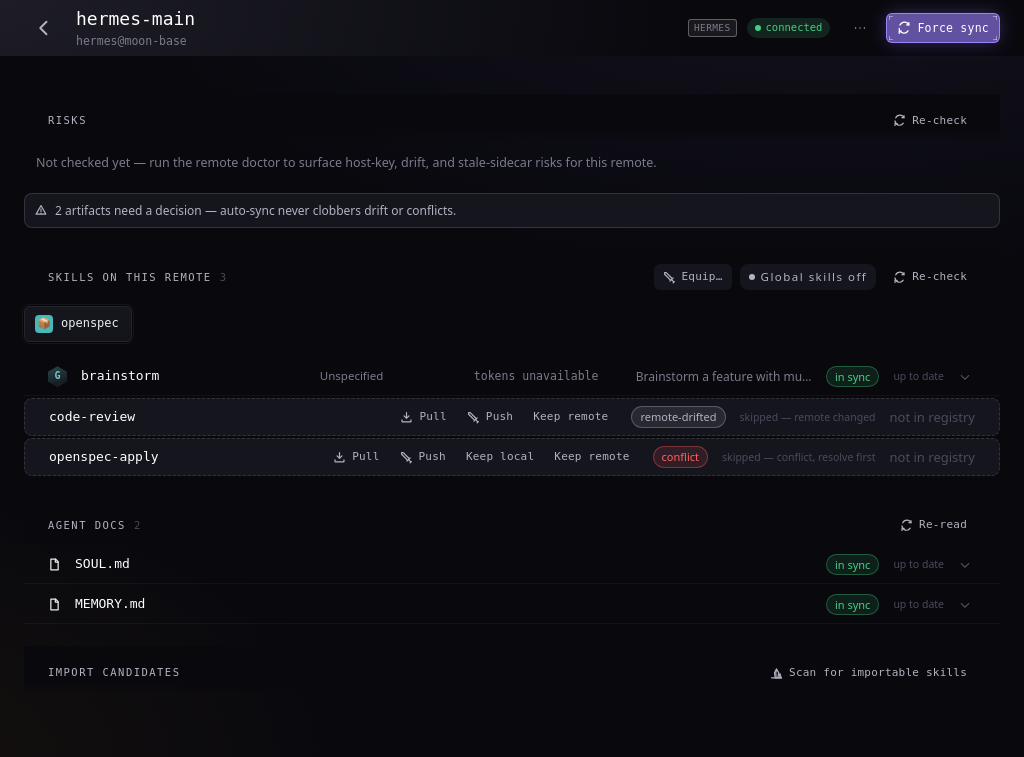
RemotesScreen — per-remote actions › opening an agent doc shows a 'full file' size line so a small doc doesn't read as truncated
Expected: the text "connected" is shown, [766,20,822,36]
Click the button named "Show MEMORY.md editor" at (965, 605), box [954,594,976,616]
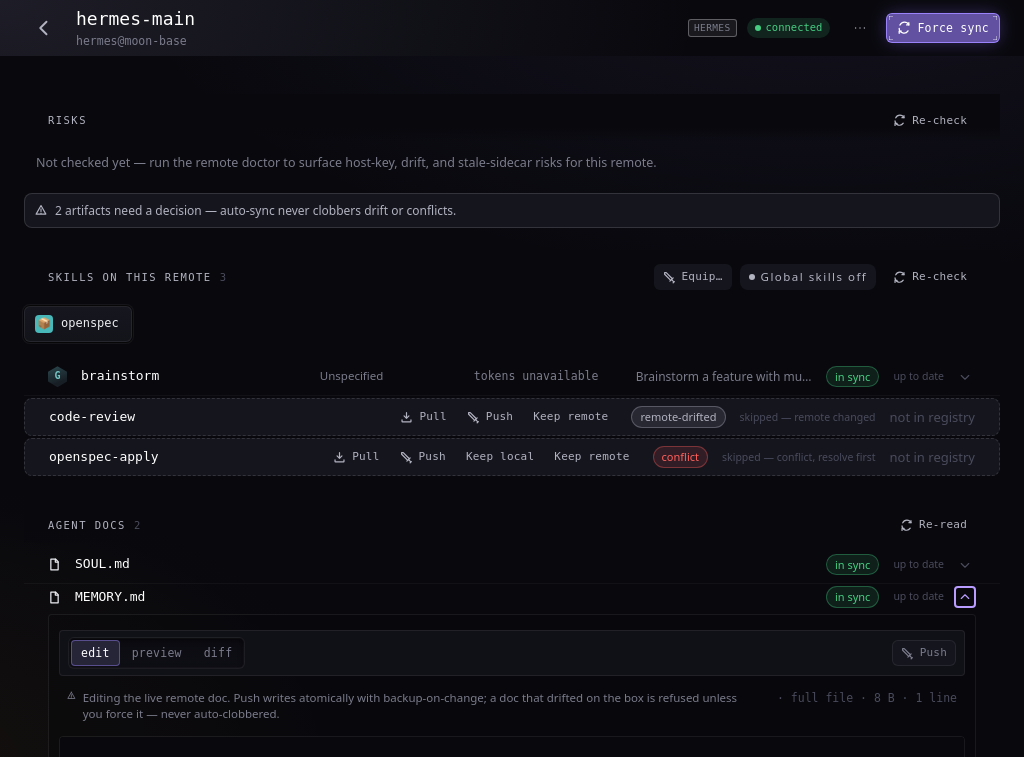
Now the text "· full file · 8 B · 1 line" is shown, box [767,690,957,706]
